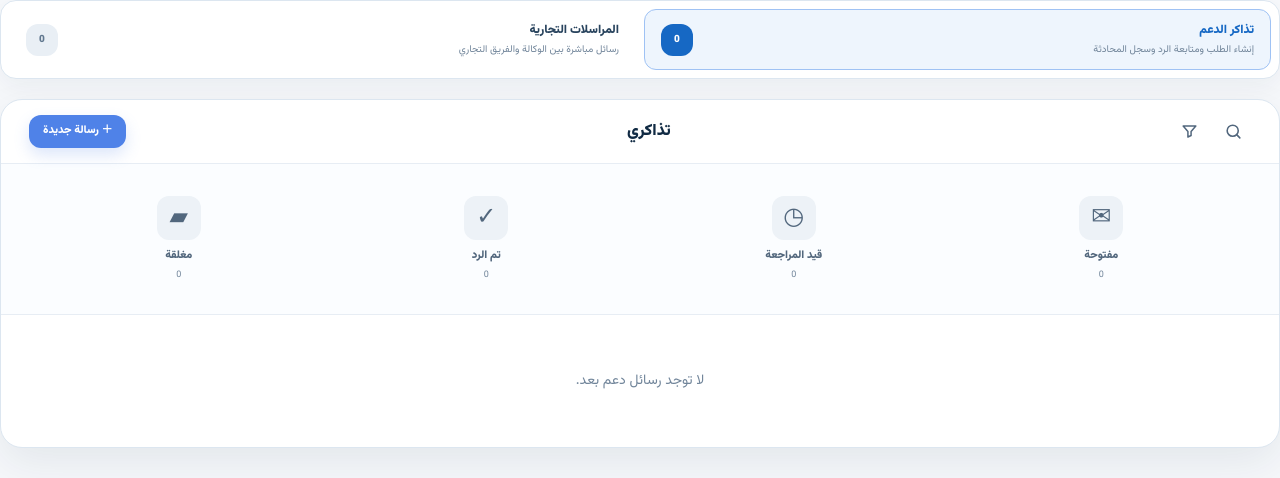
Test: AgencyInboxPage › renders translated heading and empty state in Arabic
Click the button "المراسلات التجارية" at point(574, 30), box x1=9 y1=9 x2=636 y2=70
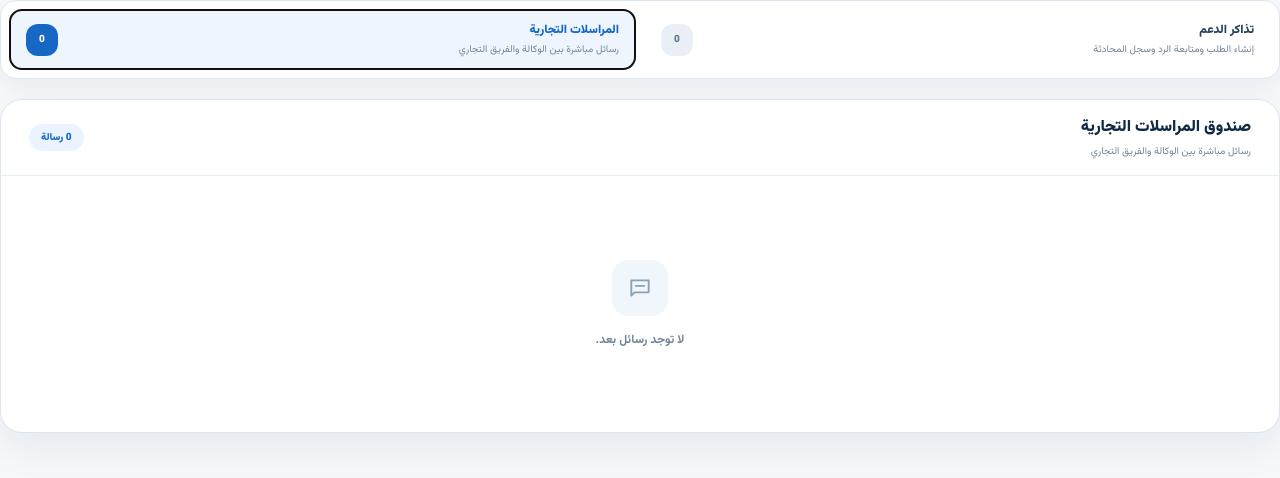
Expected: the text "لا توجد رسائل بعد." is shown, x1=596 y1=332 x2=684 y2=348
